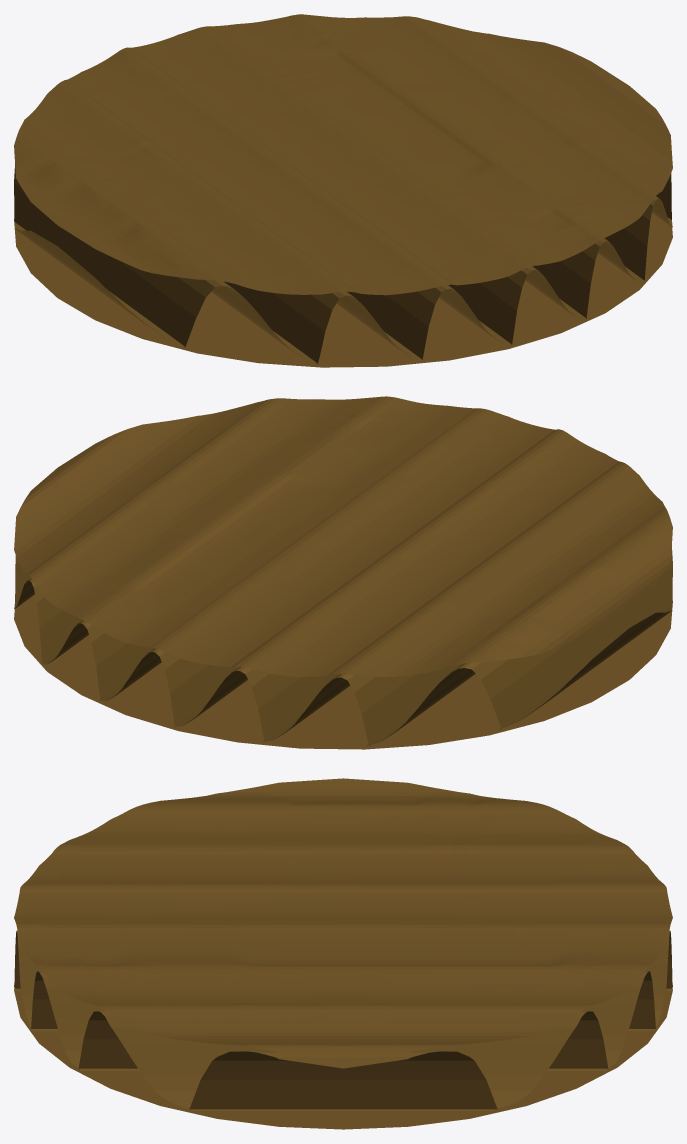
Rendered from Токен из картона круглая.fbx.
The picture shows the model from 3 angles, top to bottom: view 1: azimuth 30°, elevation 25°; view 2: azimuth 150°, elevation 25°; view 3: azimuth 270°, elevation 25°; orthographic projection.
Visible parts, largest first — view 1: Plane.002; view 2: Plane.002; view 3: Plane.002.
Boxes of the visible parts, <box> form: Plane.002: <box>14,14,672,367</box>; Plane.002: <box>14,396,672,749</box>; Plane.002: <box>14,778,672,1129</box>.
Bounding box in the file's own units: 0.4831 × 0.4831 × 0.0617.
